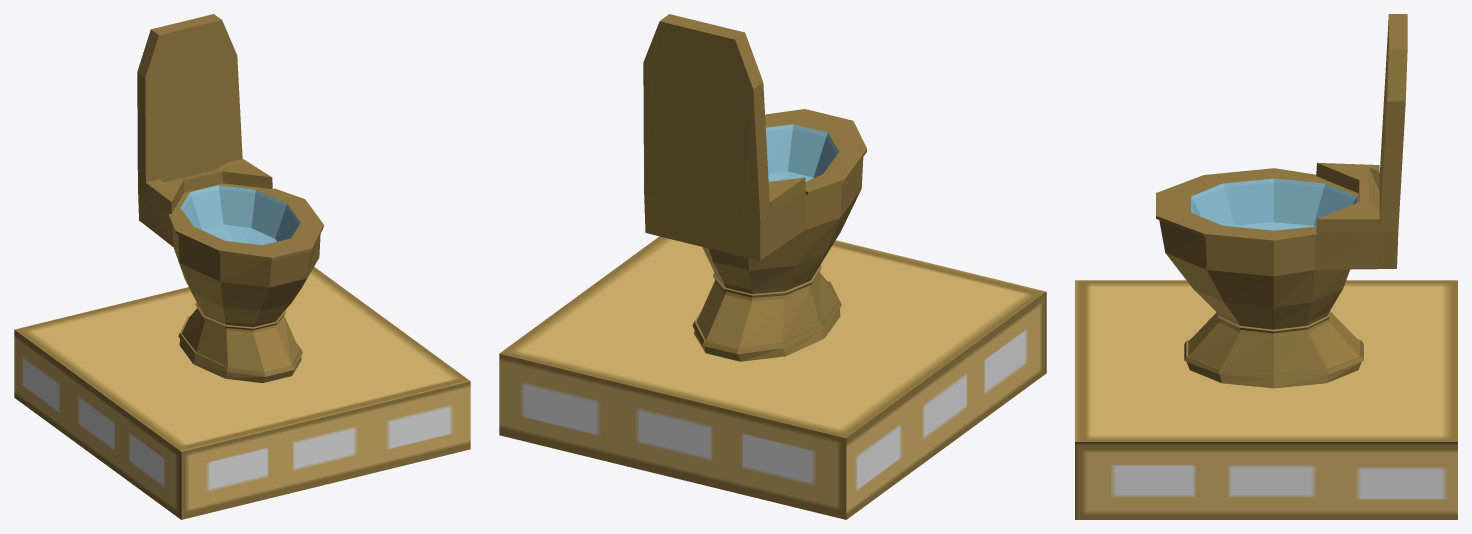
The model's file is building_holyseat_rev2.fbx.
The picture shows the model from 3 angles, left to right: view 1: azimuth 30°, elevation 25°; view 2: azimuth 150°, elevation 25°; view 3: azimuth 270°, elevation 25°; orthographic projection. The views are drawn at different scales.
Visible parts, largest first — view 1: holyseat1; view 2: holyseat1; view 3: holyseat1.
Boxes of the visible parts, <box> form: holyseat1: <box>14,14,470,519</box>; holyseat1: <box>499,14,1046,519</box>; holyseat1: <box>1075,14,1457,519</box>.
Size of the model in its own units: 5.65 by 6.65 by 5.65.
1 material, 1 textured.
